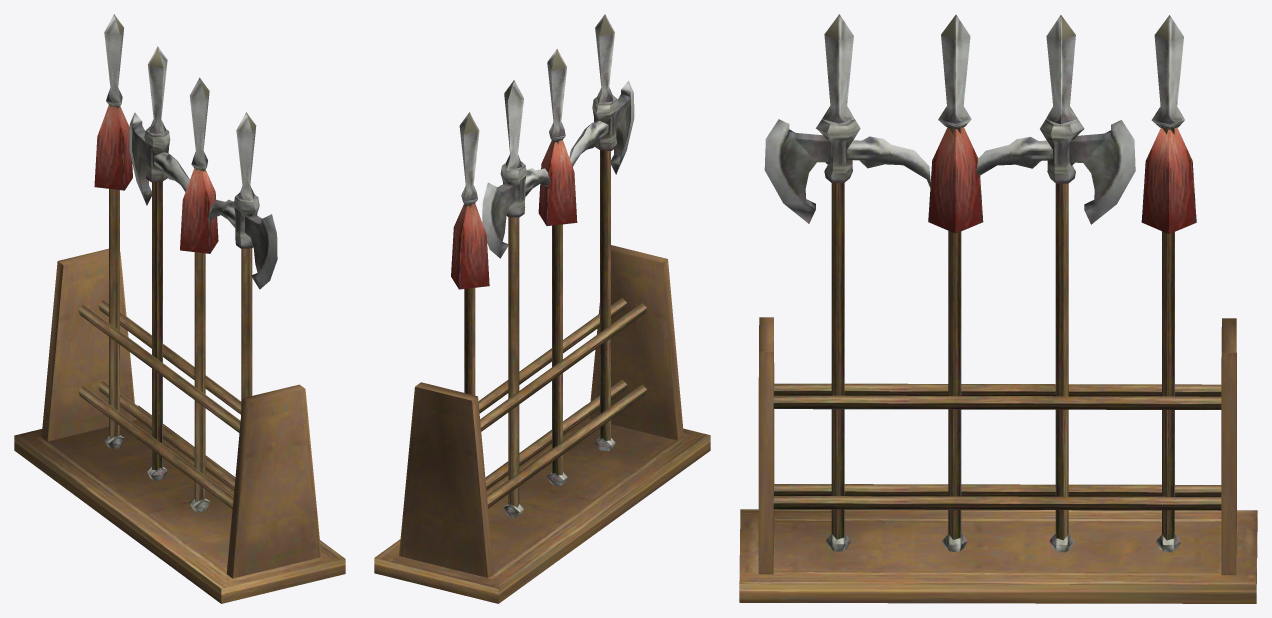
The model's file is City_bujian_09.fbx.
3 views of the same model, side by side, from view 1: azimuth 30°, elevation 25°; view 2: azimuth 150°, elevation 25°; view 3: azimuth 270°, elevation 25° (orthographic). The views are drawn at different scales.
Parts seen in each view (by area): view 1: City_1_2017_3_7_2:City_1_2017_3_7_2:City_1_2017_3_7:CIty_3_6; view 2: City_1_2017_3_7_2:City_1_2017_3_7_2:City_1_2017_3_7:CIty_3_6; view 3: City_1_2017_3_7_2:City_1_2017_3_7_2:City_1_2017_3_7:CIty_3_6.
Part boxes in pixels (x1=…): City_1_2017_3_7_2:City_1_2017_3_7_2:City_1_2017_3_7:CIty_3_6: x1=14, y1=14, x2=345, y2=603; City_1_2017_3_7_2:City_1_2017_3_7_2:City_1_2017_3_7:CIty_3_6: x1=374, y1=14, x2=710, y2=603; City_1_2017_3_7_2:City_1_2017_3_7_2:City_1_2017_3_7:CIty_3_6: x1=739, y1=14, x2=1257, y2=603.
Bounding box in the file's own units: 0.9439 × 3.2 × 2.72.
